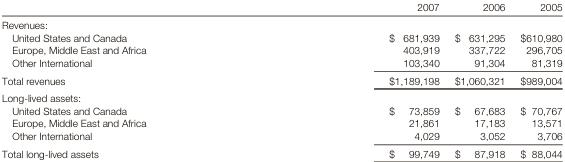table: (1, 0, 561, 158)
table column: (1, 0, 266, 158), (266, 0, 446, 158), (446, 0, 512, 158), (512, 0, 561, 158)
table column header: (1, 0, 561, 15)
table projected row header: (1, 15, 561, 30), (1, 88, 561, 103)
table row: (1, 70, 561, 88), (1, 128, 561, 144), (1, 0, 561, 15), (1, 15, 561, 30), (1, 55, 561, 70), (1, 88, 561, 103), (1, 144, 561, 158), (1, 30, 561, 43), (1, 103, 561, 116), (1, 43, 561, 55), (1, 116, 561, 128)
